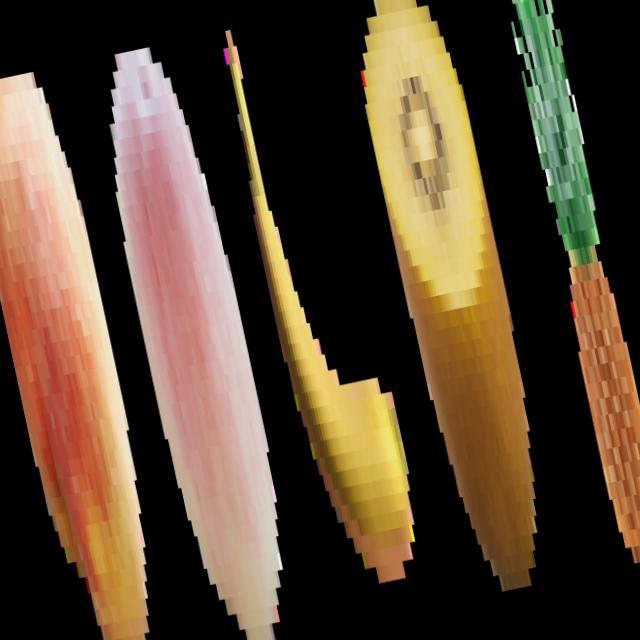bananas: (209, 5, 441, 628)
kiwifruit: (337, 0, 576, 615)
peach: (77, 22, 316, 640), (0, 49, 187, 640)
pineapples: (485, 0, 640, 583)
